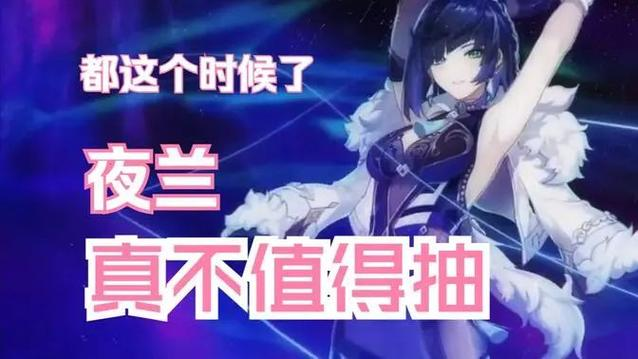夜兰: (316, 2, 601, 359)
